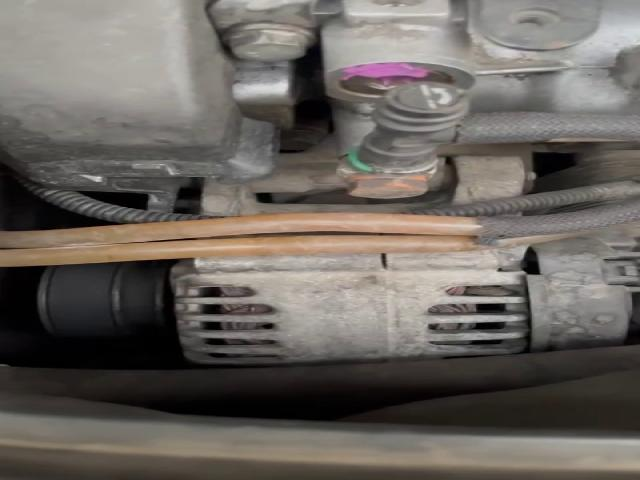alternator: (172, 247, 530, 365)
high_pressure_pump: (320, 0, 638, 114)
